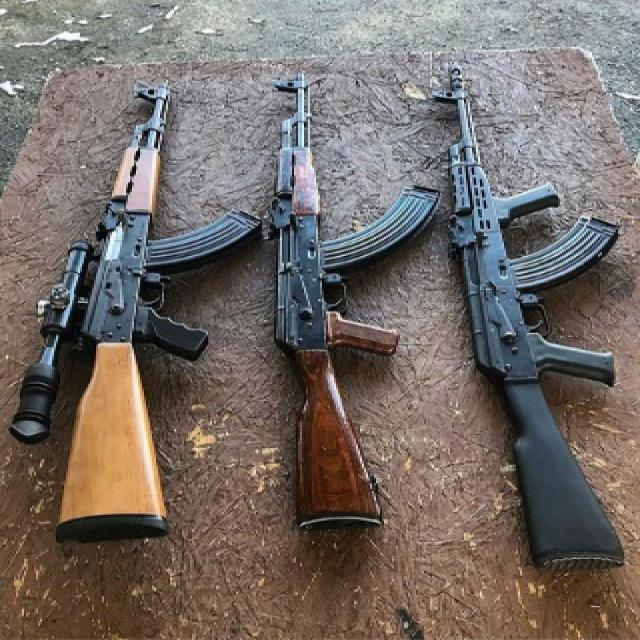weapon: (10, 56, 240, 544), (436, 52, 638, 584), (254, 41, 440, 553)
